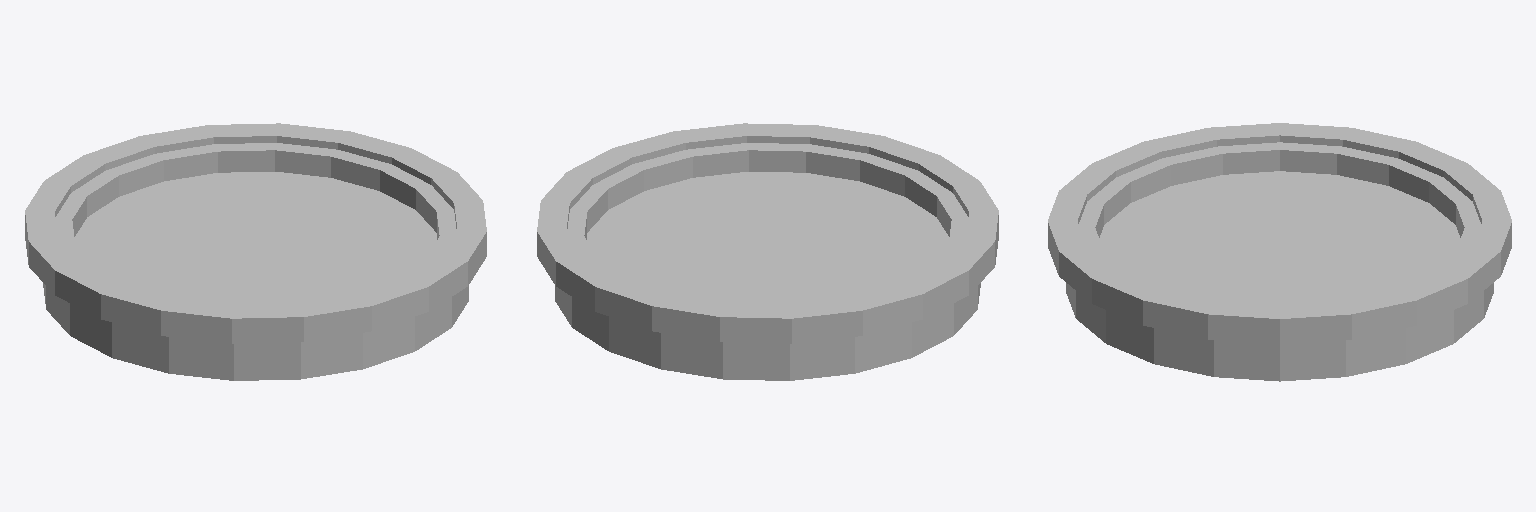
Rendered from WaterWell.obj.
The picture shows the model from 3 angles: view 1: azimuth 30°, elevation 25°; view 2: azimuth 150°, elevation 25°; view 3: azimuth 270°, elevation 25°; orthographic projection.
Visible parts, largest first — view 1: polySurface2; view 2: polySurface2; view 3: polySurface2.
Part boxes in pixels (x1,y1,x2,y2): polySurface2: (25, 123, 486, 380); polySurface2: (537, 123, 998, 380); polySurface2: (1048, 123, 1511, 381).
Bounding box in the file's own units: 7.8 × 1.29 × 7.8.